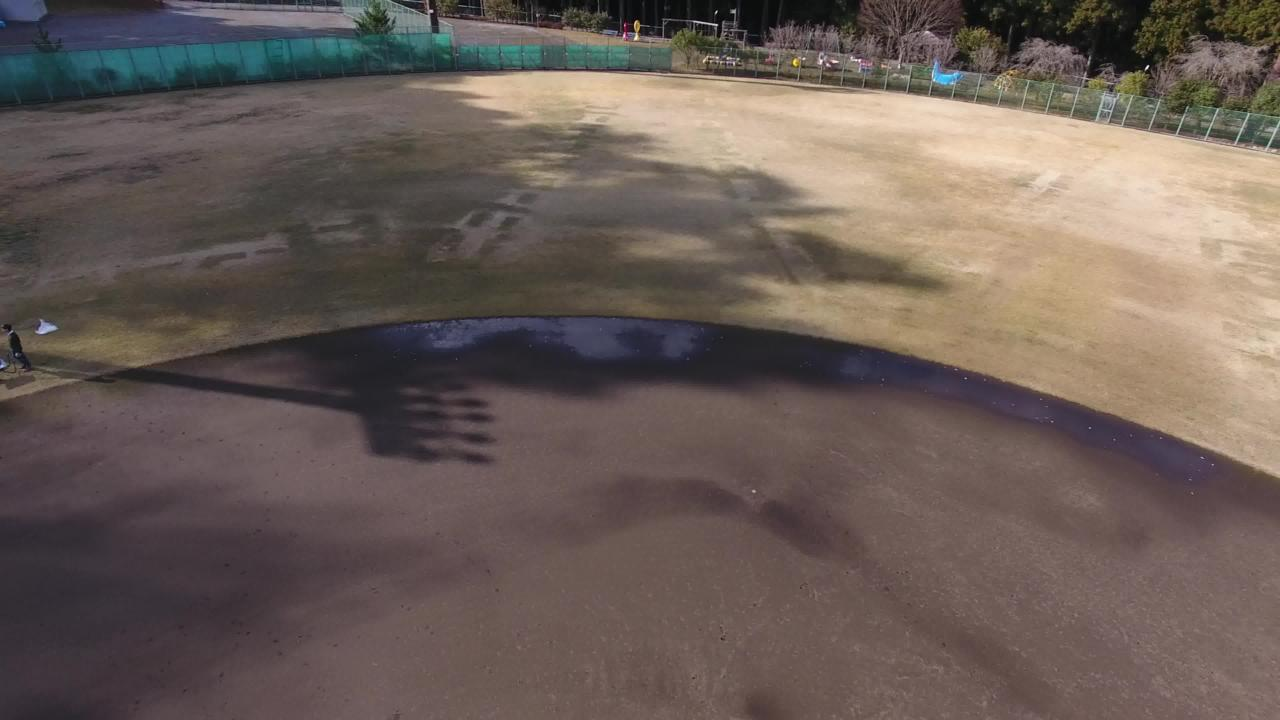person: (2, 321, 31, 376)
